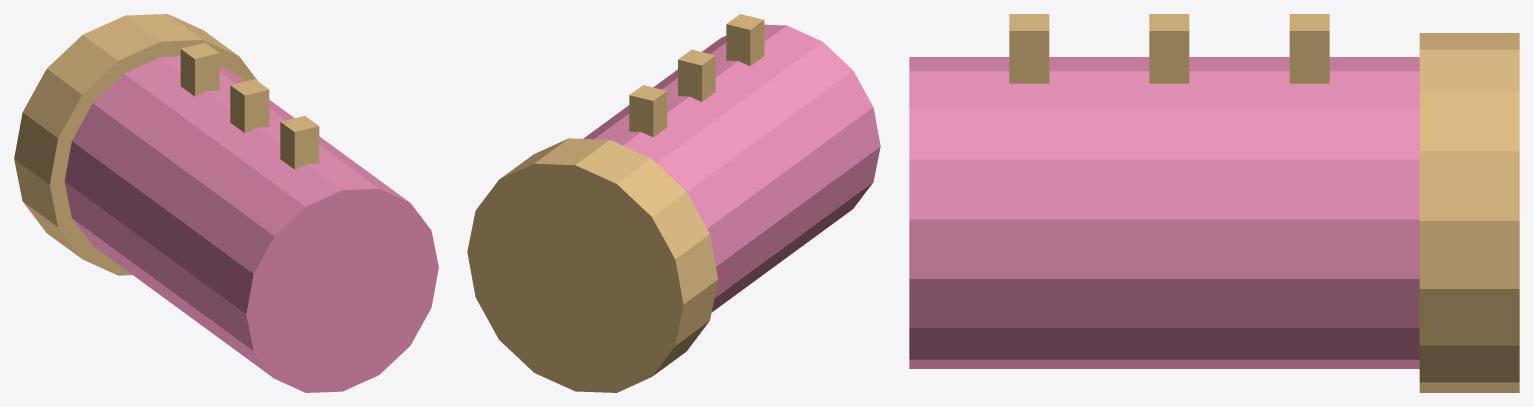
Rendered from Choke.obj.
3 renders of one model, left to right at view 1: azimuth 30°, elevation 25°; view 2: azimuth 150°, elevation 25°; view 3: azimuth 270°, elevation 25°, orthographic. The views are drawn at different scales.
Visible parts, largest first — view 1: Choke_Body, Choke_Detail; view 2: Choke_Detail, Choke_Body; view 3: Choke_Body, Choke_Detail.
Part boxes in pixels (x1,y1,x2,y2): Choke_Body: (64, 56, 438, 392); Choke_Detail: (14, 14, 319, 275); Choke_Detail: (467, 14, 764, 392); Choke_Body: (583, 24, 880, 312); Choke_Body: (909, 57, 1419, 368); Choke_Detail: (1009, 14, 1519, 392).
Size of the model in its own units: 0.18 by 0.195 by 0.305.
